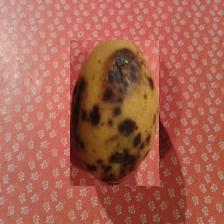Mango Semirotten: (71, 40, 161, 186)
